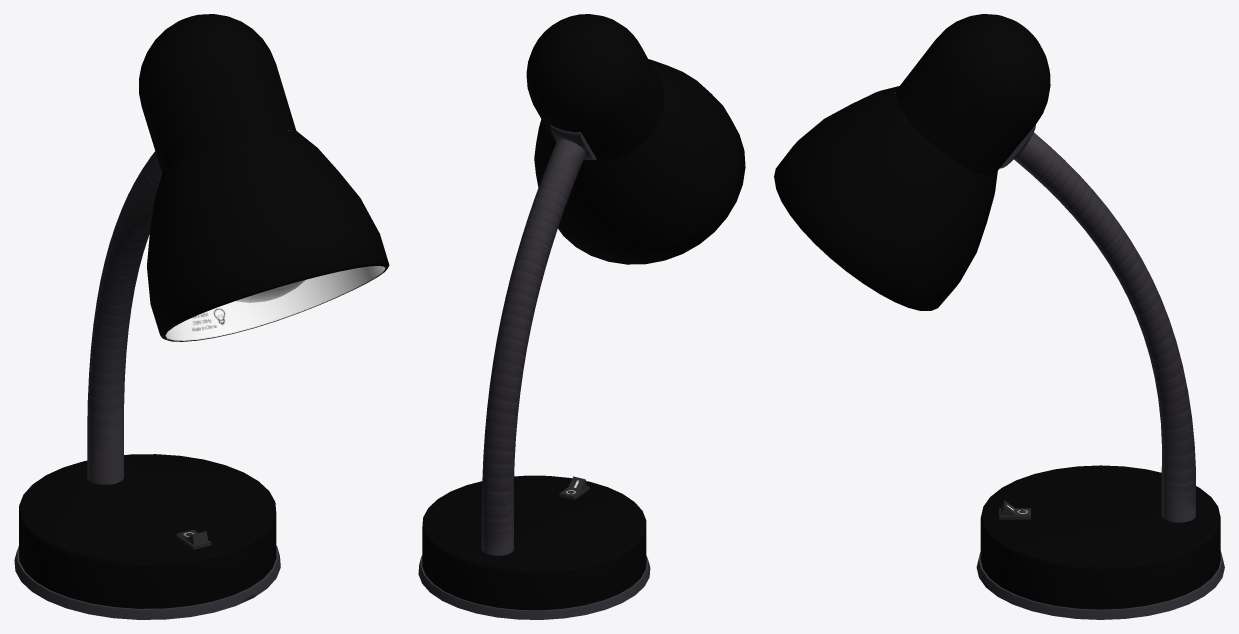
3 renders of one model, left to right at view 1: azimuth 30°, elevation 25°; view 2: azimuth 150°, elevation 25°; view 3: azimuth 270°, elevation 25°, orthographic. The views are drawn at different scales.
Parts seen in each view (by area): view 1: TableLampLow; view 2: TableLampLow; view 3: TableLampLow.
Part boxes in pixels (x1,y1,x2,y2): TableLampLow: [14, 14, 389, 619]; TableLampLow: [418, 14, 745, 619]; TableLampLow: [774, 14, 1224, 619].
Bounding box in the file's own units: 0.1713 × 0.4166 × 0.311.
Materials: 1 (1 with a texture image).
